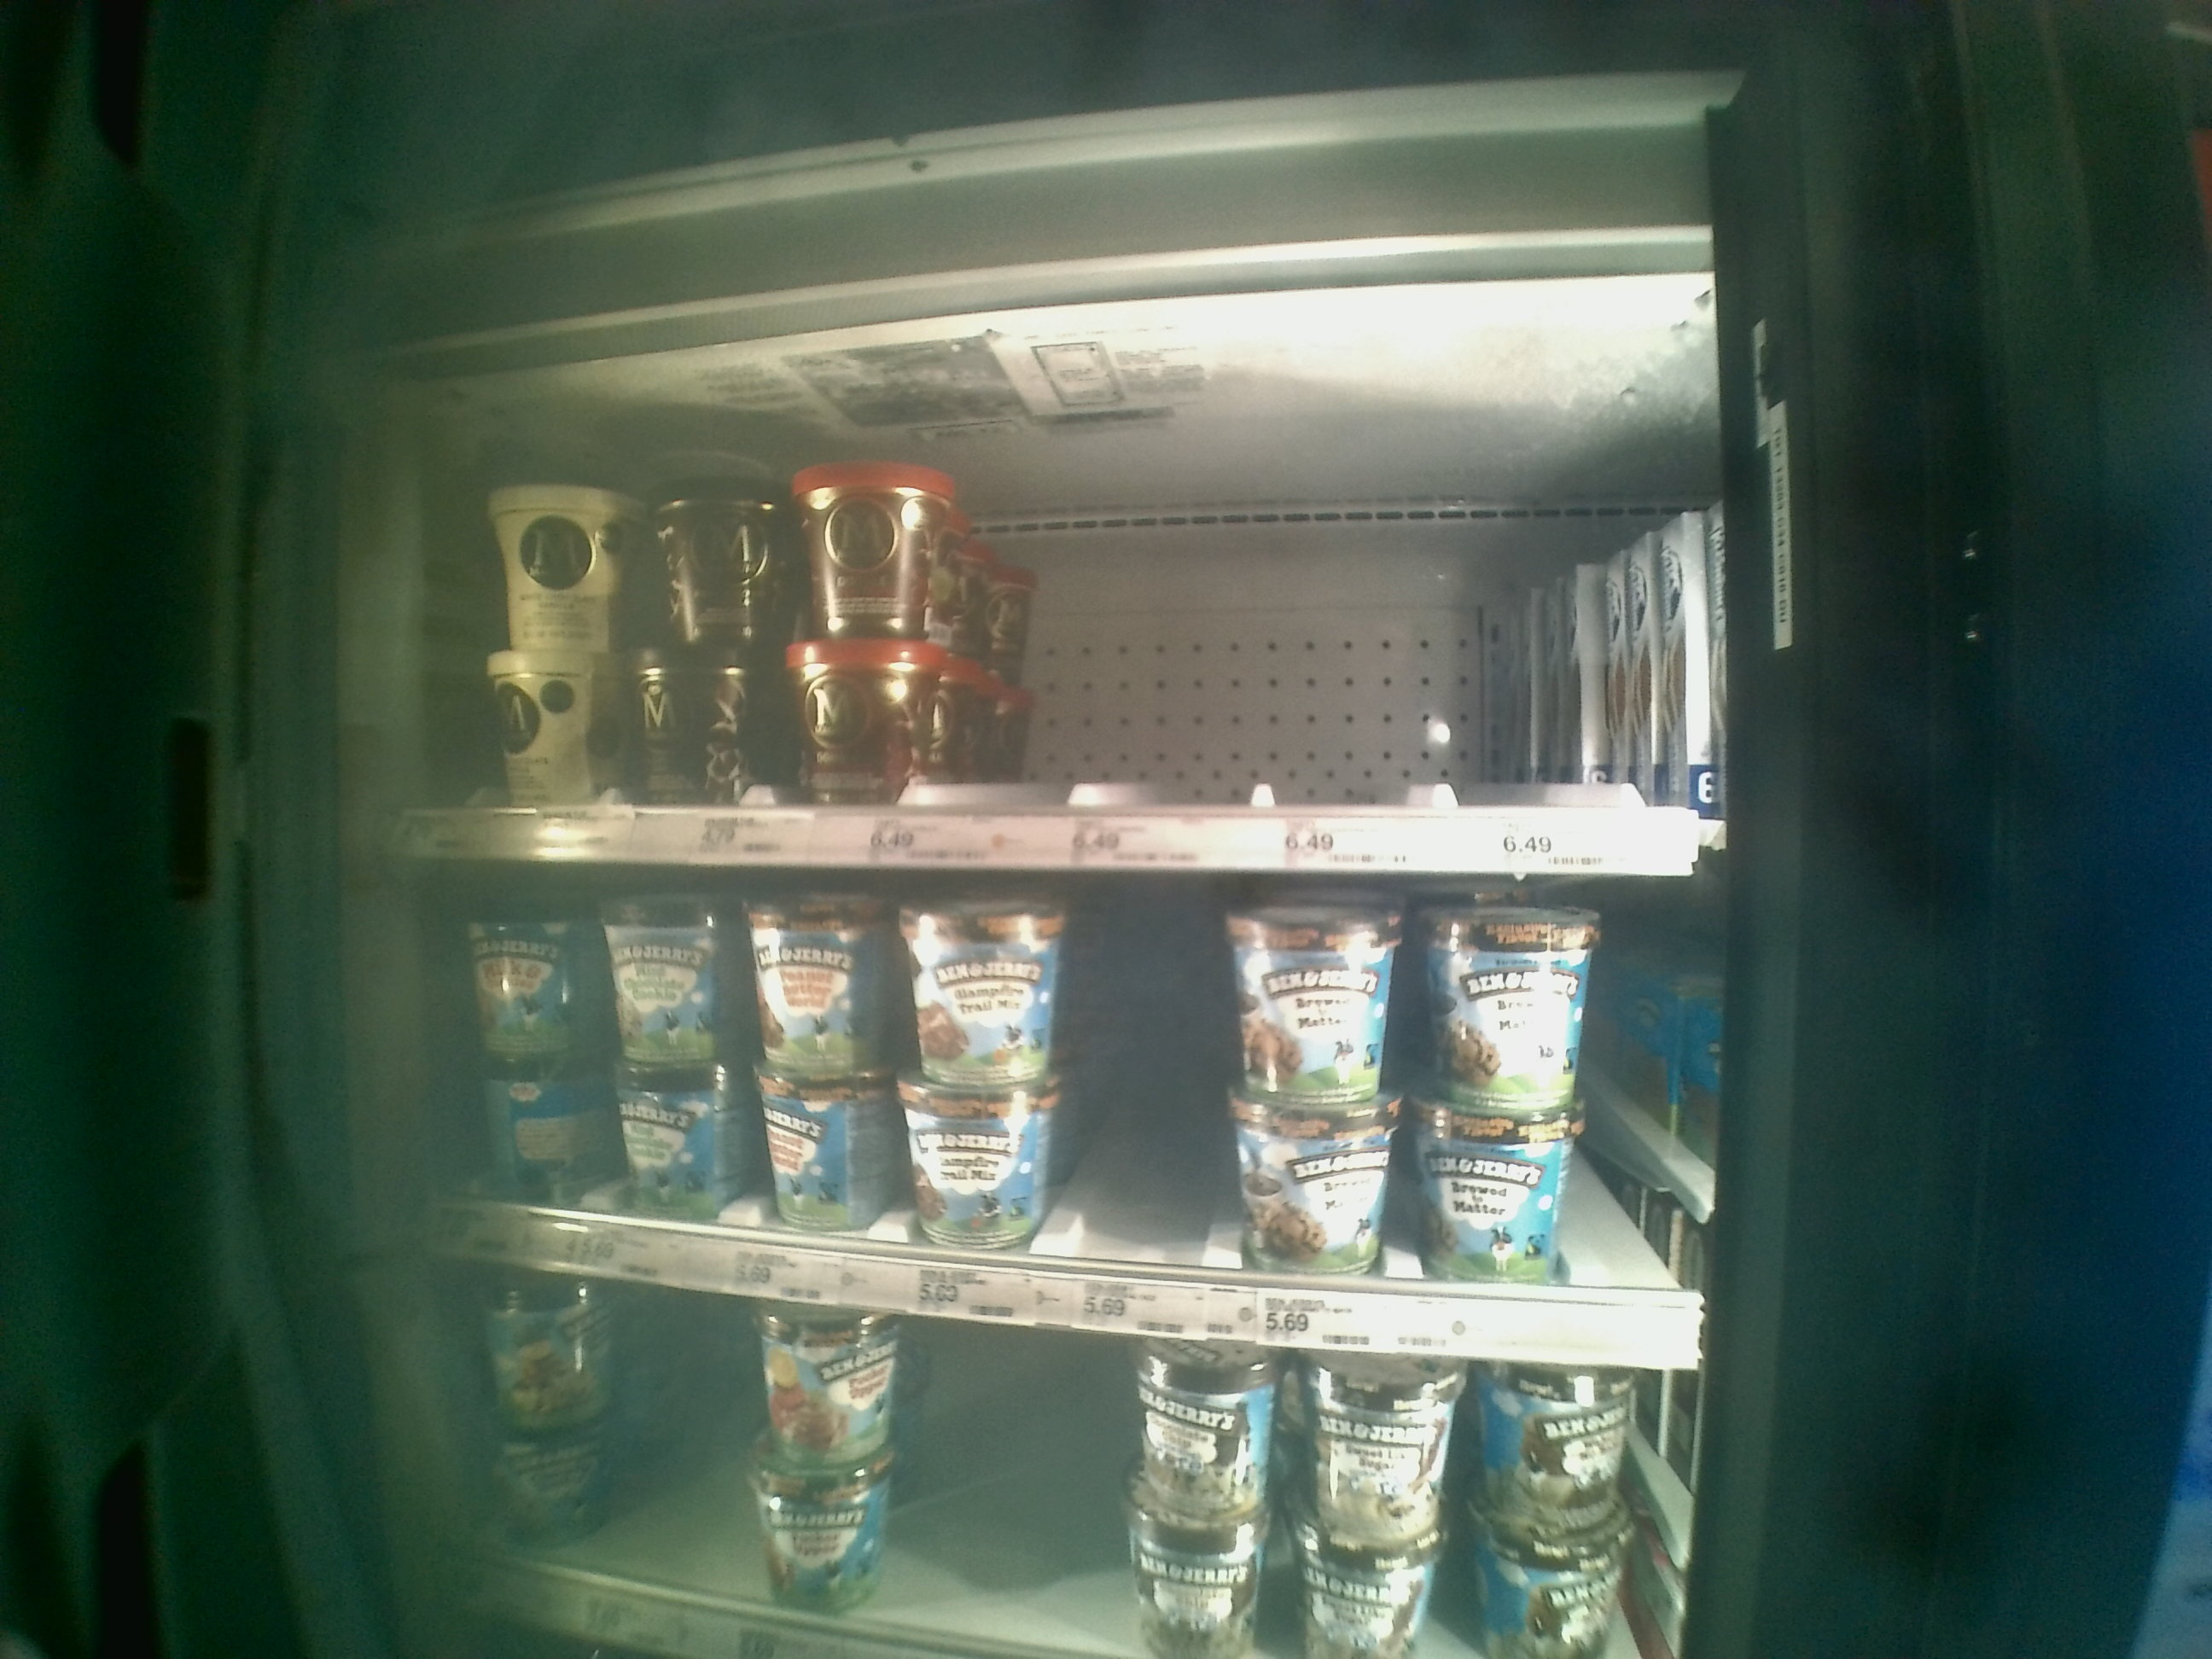shelf: (399, 868, 1709, 1349), (395, 385, 1695, 870)
